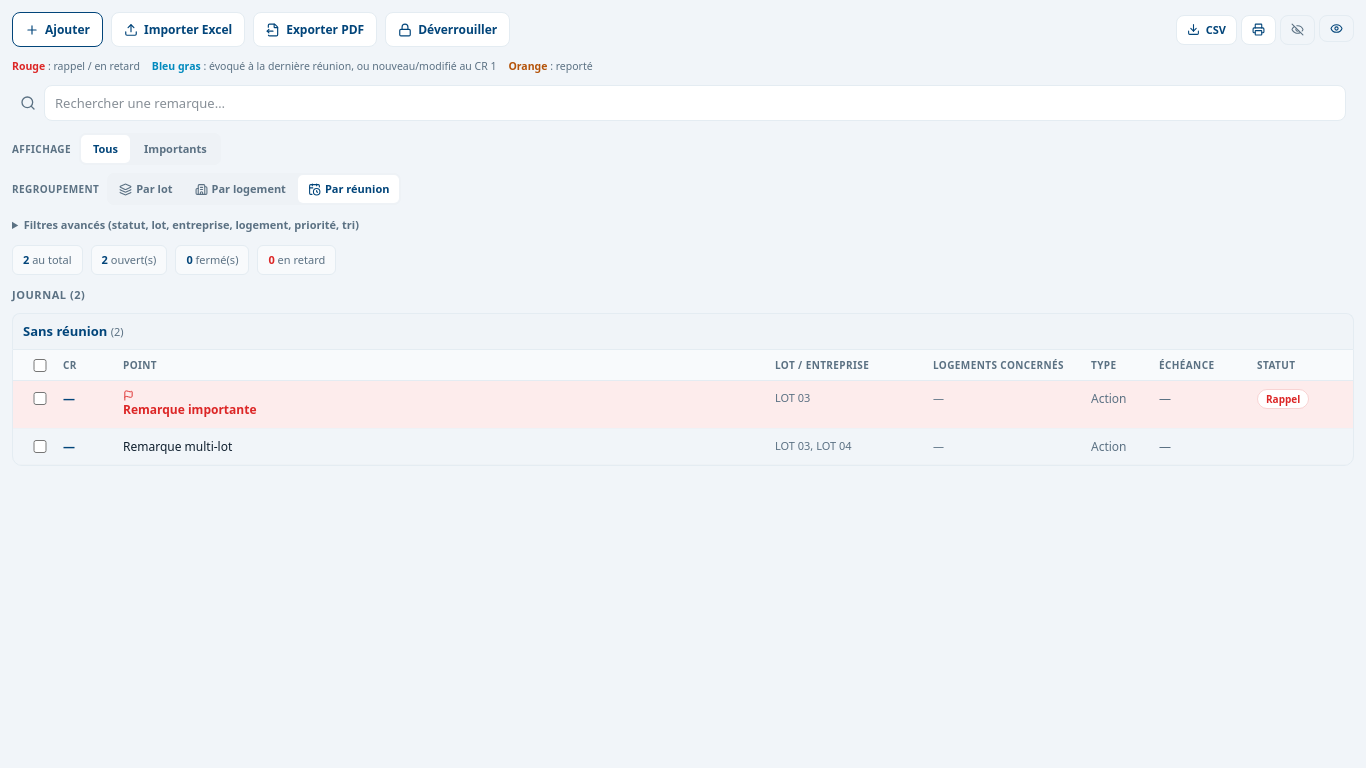
Test: sprint — journal unifié : verrouillage/édition tableur › démarre verrouillé ; « Déverrouiller » fait apparaître des champs éditables en ligne
Click the button "Déverrouiller".
click(448, 30)  # box left=385, top=12, right=510, bottom=47
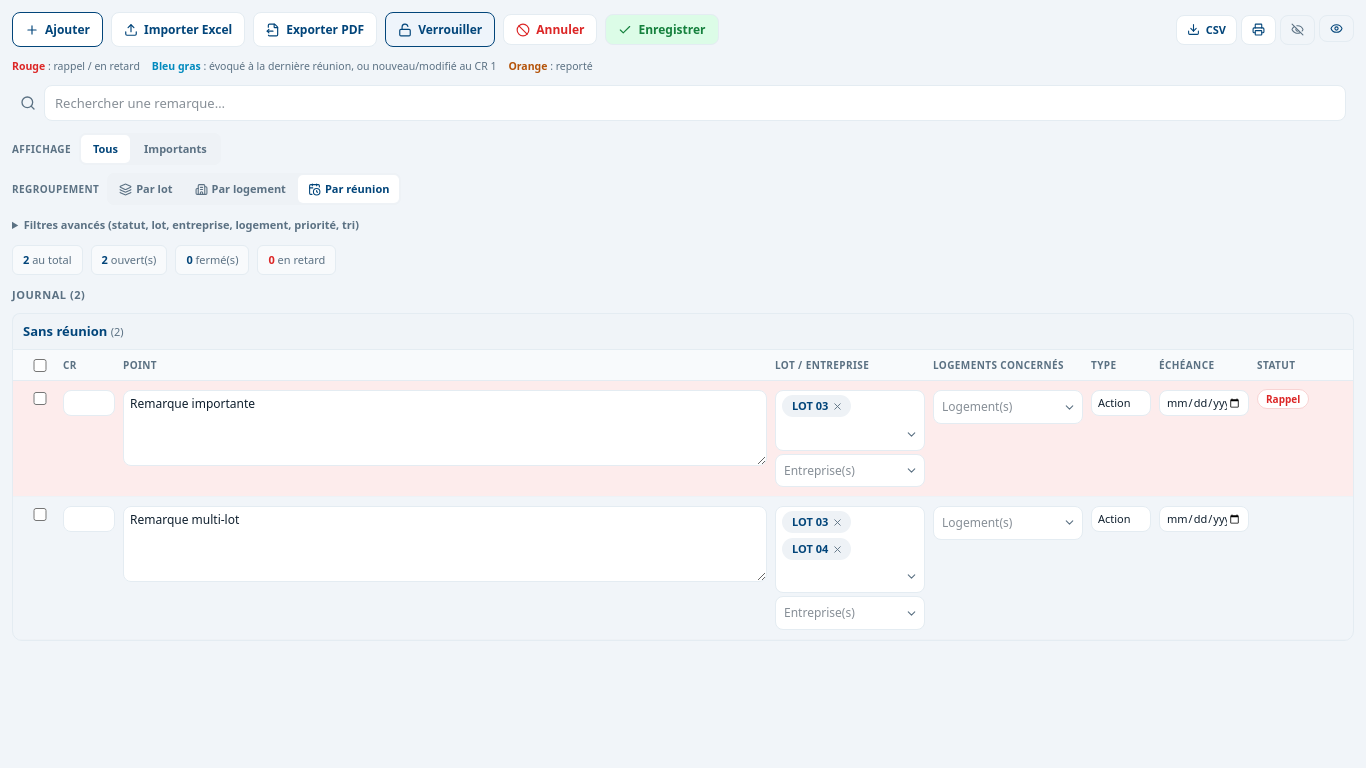
Check: the button "Verrouiller" is shown, box left=385, top=12, right=495, bottom=47
Check: the text box showing "Remarque multi-lot" next to "LOT 04" is shown, box left=123, top=506, right=767, bottom=582
